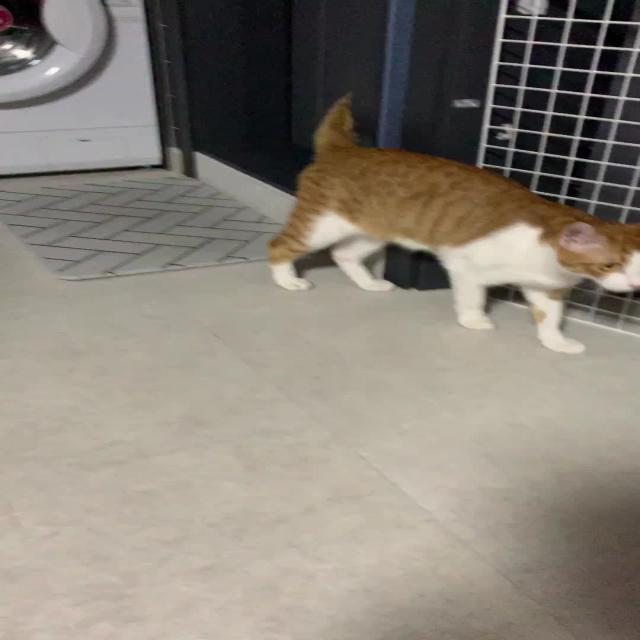cat: (269, 86, 640, 364)
